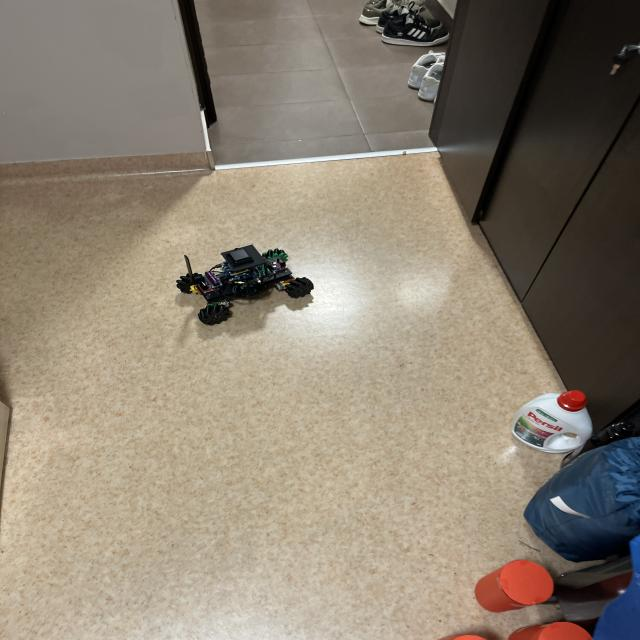robot: (176, 245, 312, 324)
